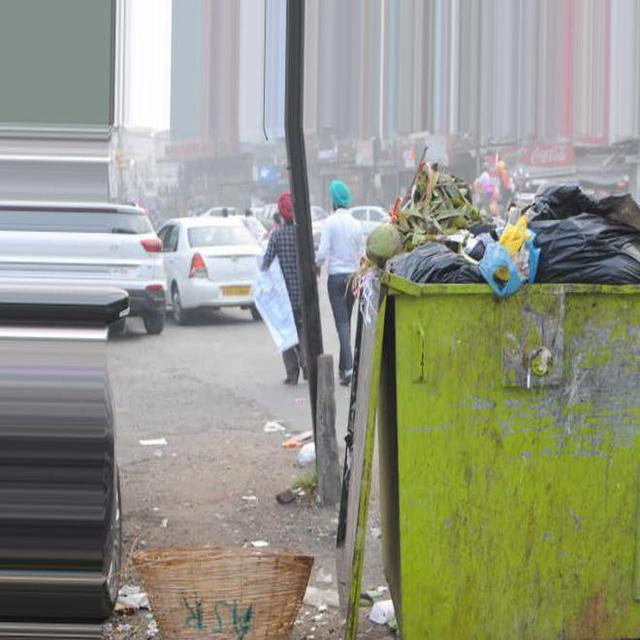garbage: (367, 145, 639, 291), (118, 539, 329, 640), (263, 414, 339, 465), (362, 574, 410, 636), (122, 430, 177, 454)
